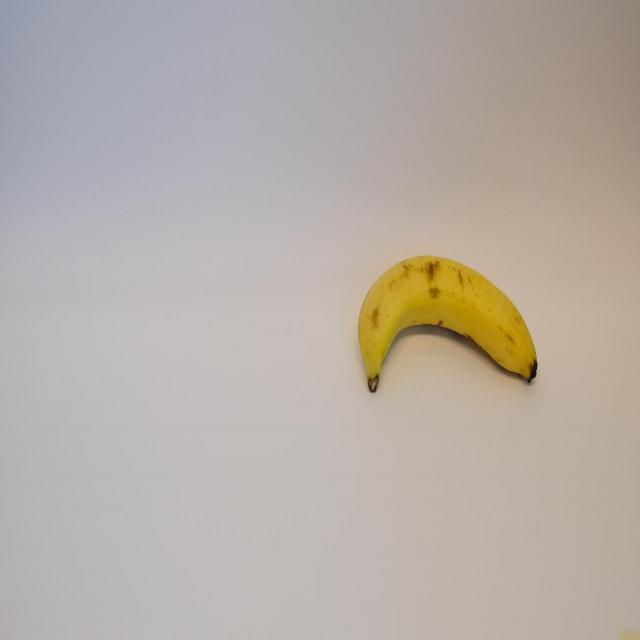banana: (358, 252, 538, 393)
